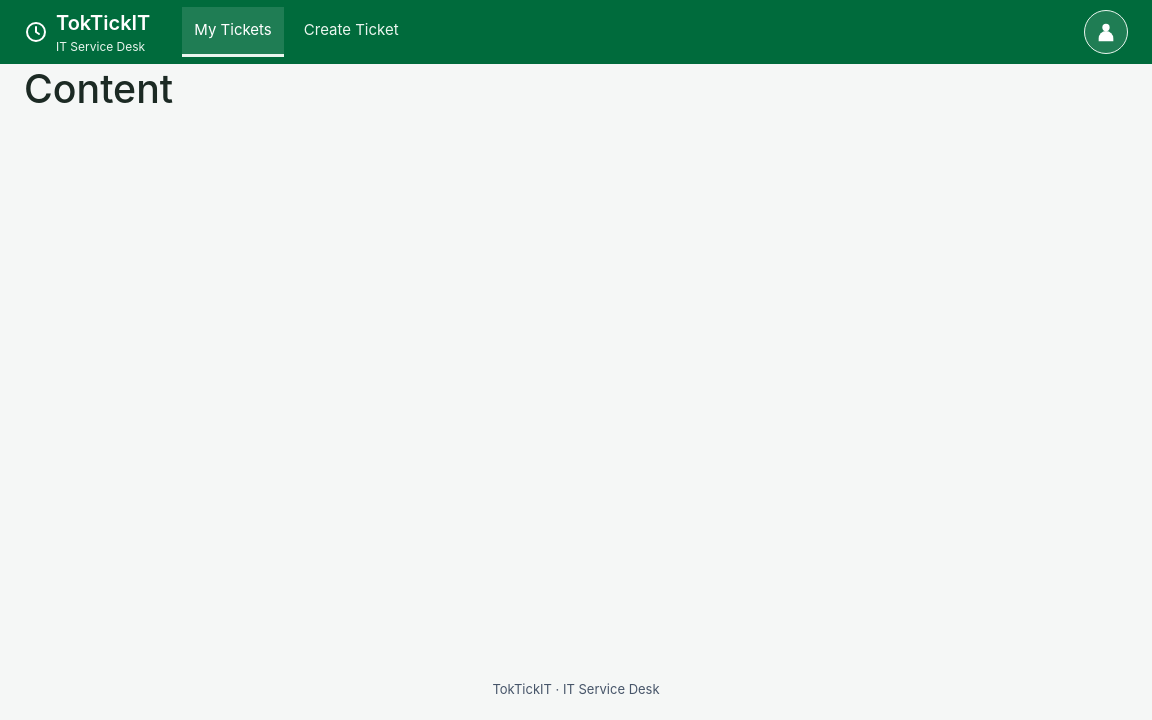
Test: UI-SHELL-02: runs Change Password and closes the menu
Click the button named "Open profile menu": click(1106, 32) [1084,10,1128,54]
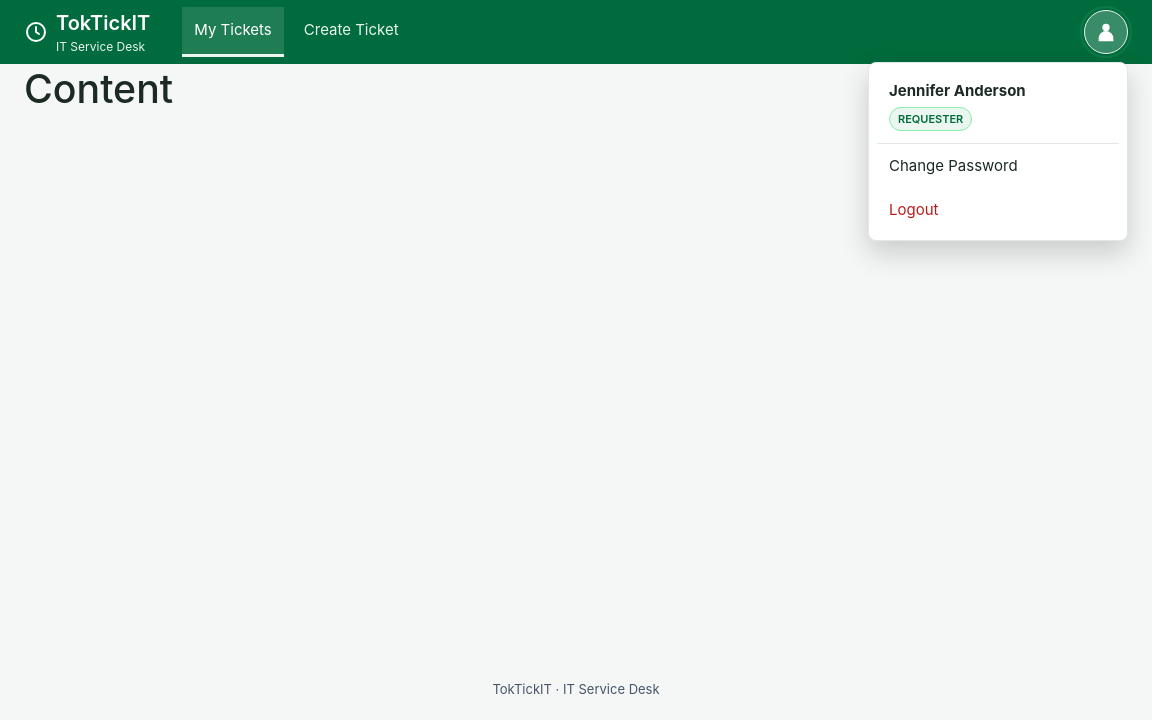
Click the menu item "Change Password": click(998, 166) [877,144,1119,188]
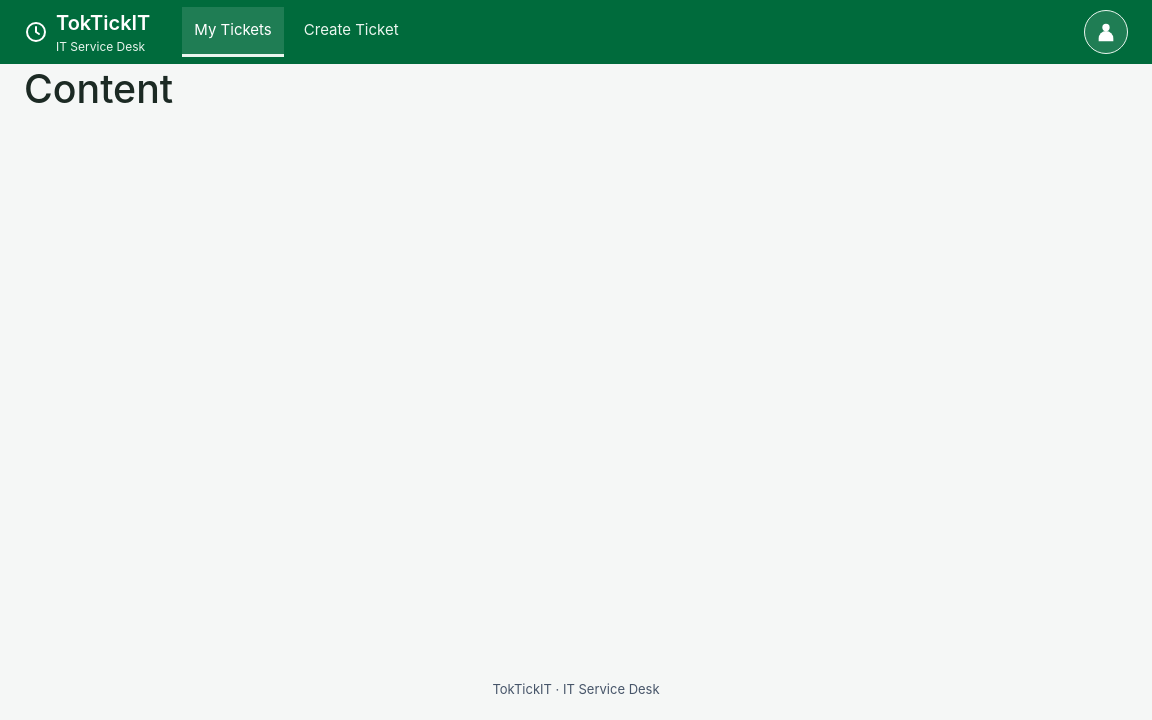
Expected: the menu is gone
